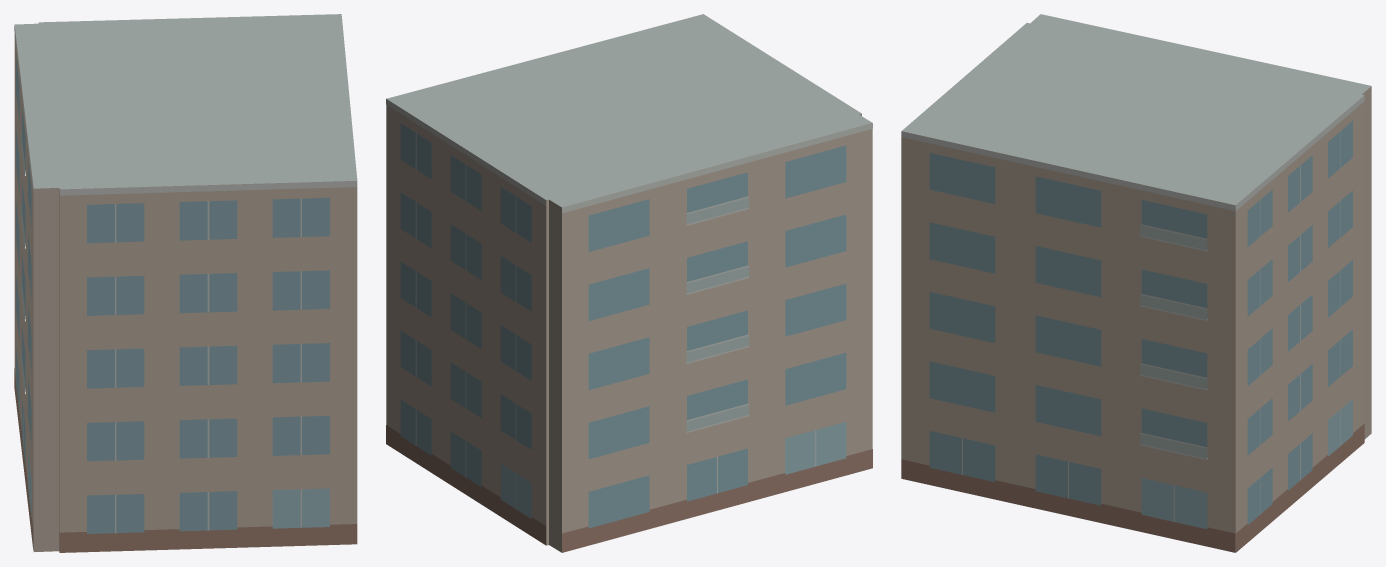
File: survey-upis-32881257.glb
The picture shows the model from 3 angles, left to right: view 1: azimuth 30°, elevation 25°; view 2: azimuth 150°, elevation 25°; view 3: azimuth 270°, elevation 25°; orthographic projection. The views are drawn at different scales.
Parts seen in each view (by area): view 1: survey-upis-32881257.tmp; view 2: survey-upis-32881257.tmp; view 3: survey-upis-32881257.tmp.
Part boxes in pixels (box(x1,y1,x2,y2)): survey-upis-32881257.tmp: box(14, 14, 357, 552); survey-upis-32881257.tmp: box(386, 14, 872, 552); survey-upis-32881257.tmp: box(901, 14, 1371, 552).
Bounding box in the file's own units: 16.89 × 14.3 × 17.54.
